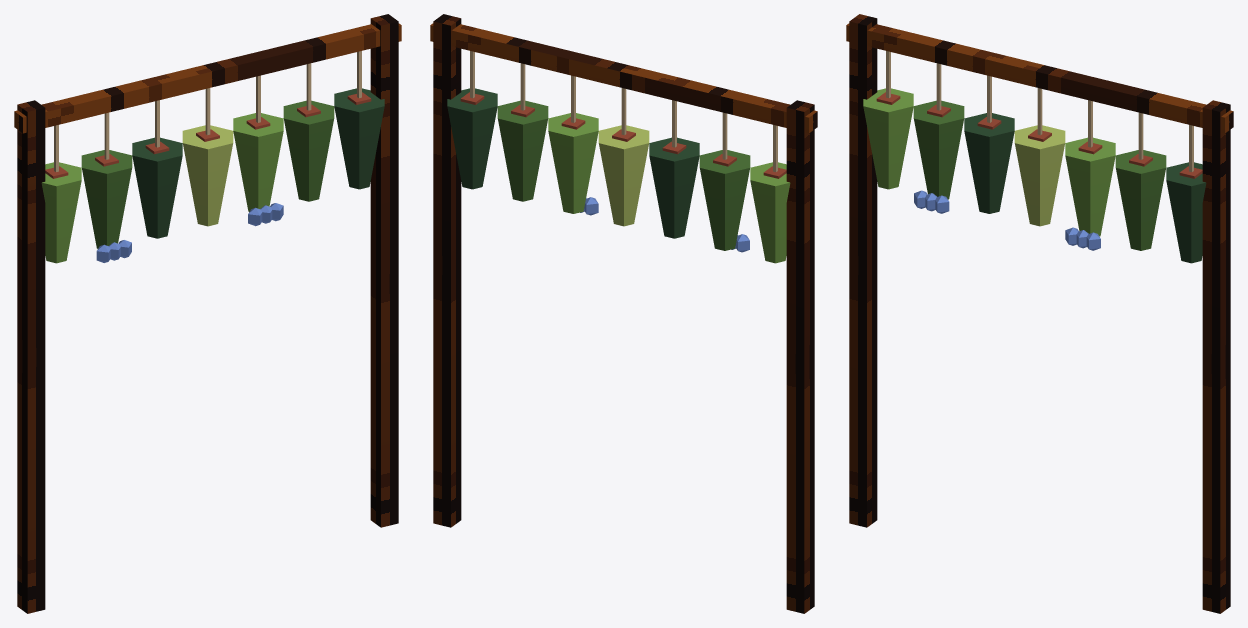
Rendered from herb_rack.glb.
3 renders of one model, left to right at view 1: azimuth 30°, elevation 25°; view 2: azimuth 150°, elevation 25°; view 3: azimuth 330°, elevation 25°, orthographic.
Parts seen in each view (by area): view 1: herb_rack; view 2: herb_rack; view 3: herb_rack.
Part boxes in pixels (x1,y1,x2,y2): herb_rack: (14, 14, 401, 613); herb_rack: (430, 14, 817, 613); herb_rack: (846, 14, 1233, 613).
Size of the model in its own units: 1.5 by 1.9 by 0.1732.
Materials: 2 (1 with a texture image).
